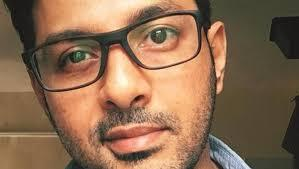strokeEyeWeak: (53, 23, 192, 77)
strokeMouthWeak: (99, 120, 177, 159)
